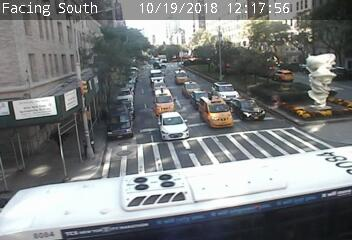carw: (199, 96, 234, 129), (158, 111, 190, 141), (231, 99, 267, 121), (154, 88, 177, 115), (211, 82, 239, 100), (191, 90, 208, 106), (175, 69, 188, 83)
